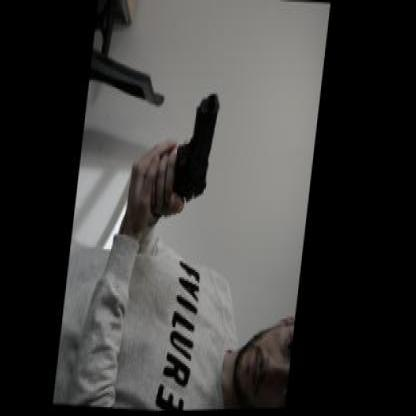pistol: (172, 89, 222, 204)
